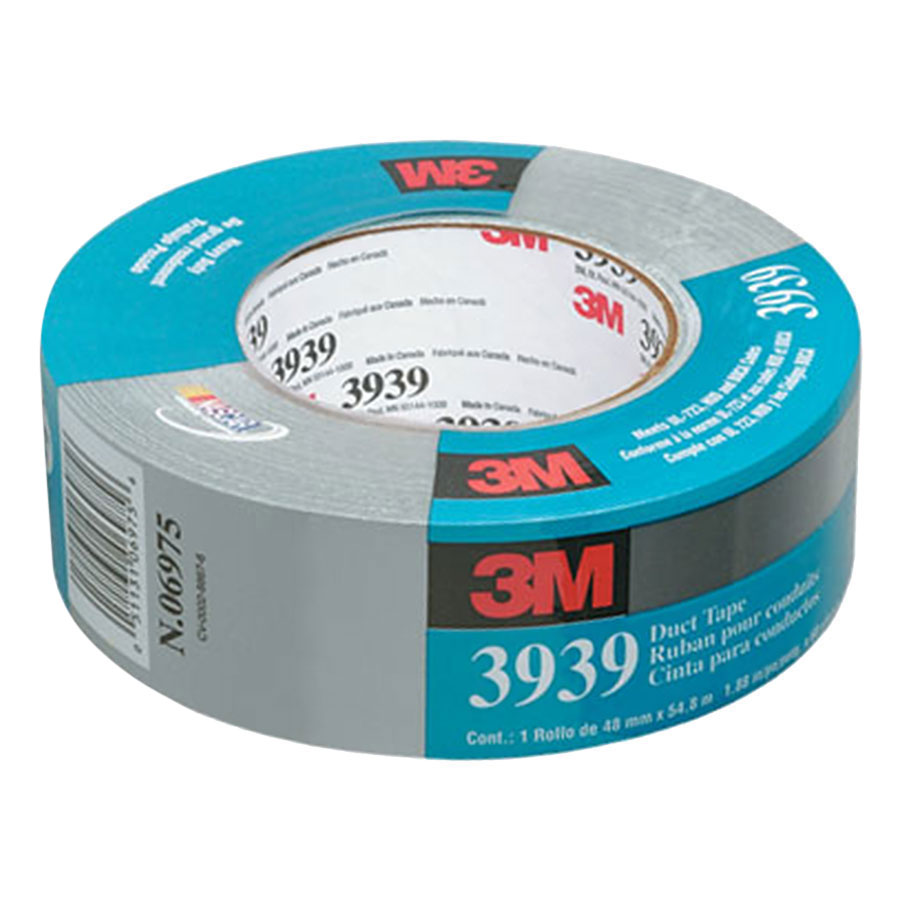3M: (464, 538, 621, 623), (456, 447, 608, 500), (385, 155, 502, 201), (564, 274, 630, 340)
